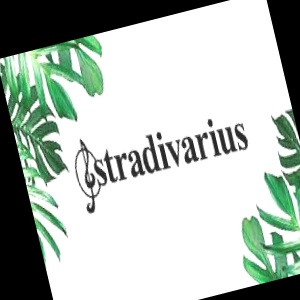stradivarius: (210, 42, 274, 144)
